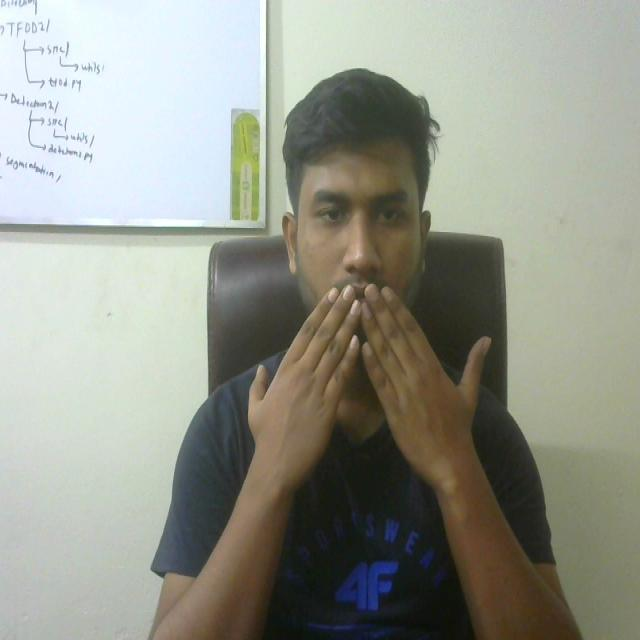Thanks: (226, 274, 501, 493)
